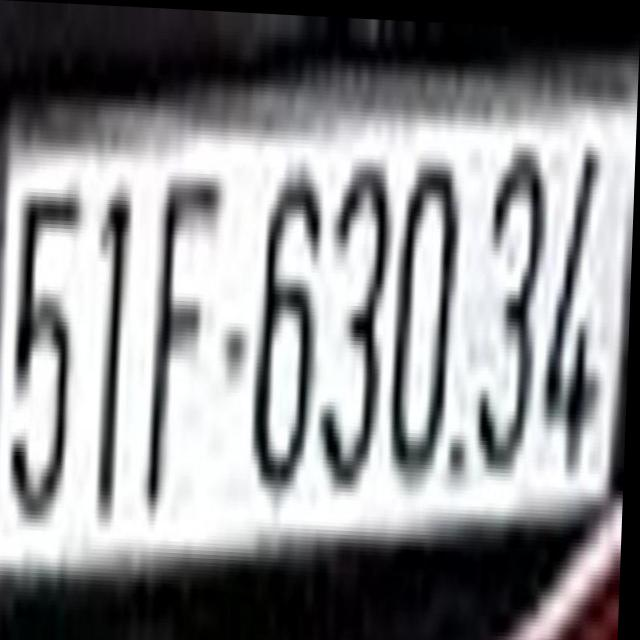0: (387, 148, 461, 500)
1: (91, 175, 134, 522)
3: (473, 140, 546, 488), (321, 149, 392, 505)
4: (544, 112, 613, 467)
5: (10, 168, 86, 524)
6: (250, 142, 324, 518)
F: (146, 143, 225, 521)
